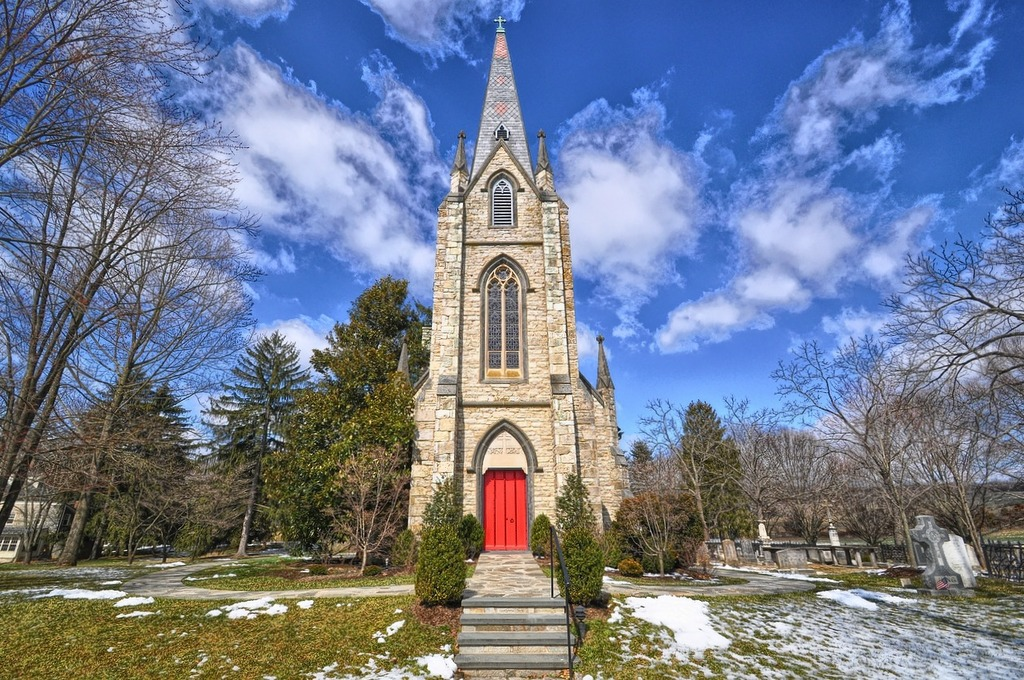Tree: (528, 176, 1023, 618), (0, 0, 261, 568), (266, 276, 481, 612)
